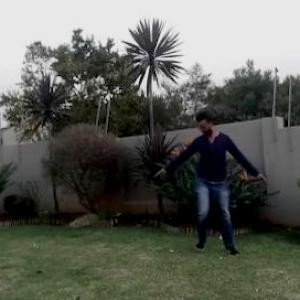land: (134, 100, 272, 269)
